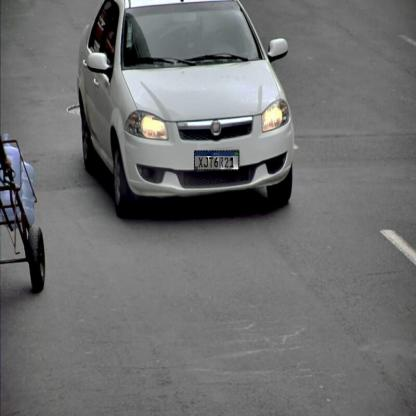PlacaM: (194, 150, 239, 171)
